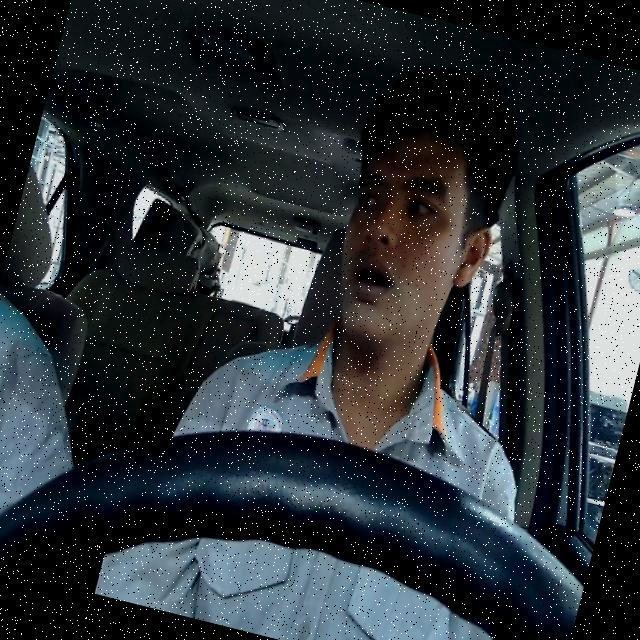yarning: (318, 105, 516, 368)
